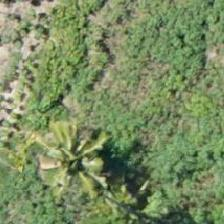coconut_tree: (38, 110, 128, 200)
